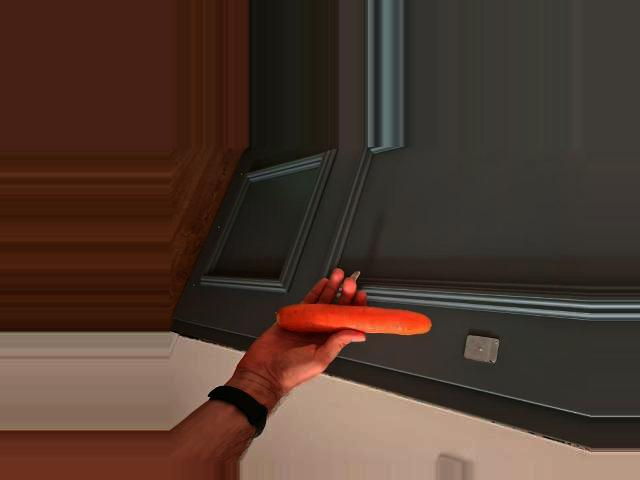carrot: (277, 303, 428, 340)
